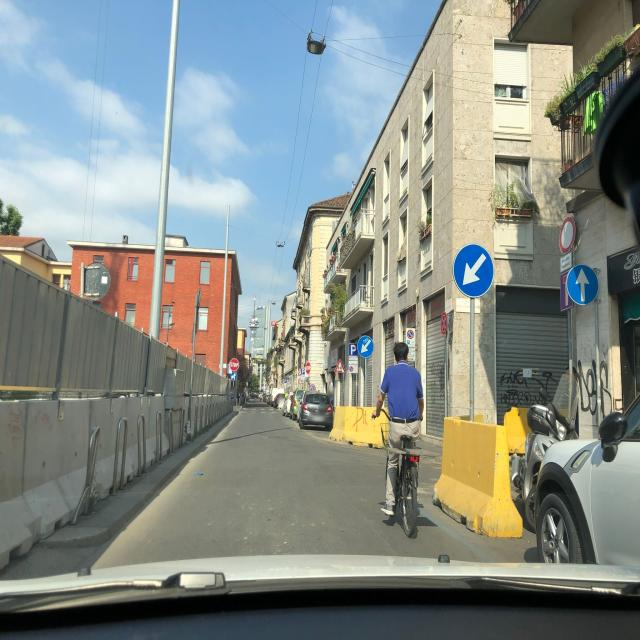forb_stopping: (407, 330, 413, 338)
forb_waiting: (441, 314, 446, 333)
